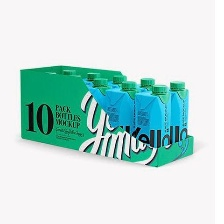carton: (132, 83, 172, 150), (105, 78, 139, 140), (168, 79, 191, 145), (83, 77, 110, 122), (134, 75, 156, 92)
